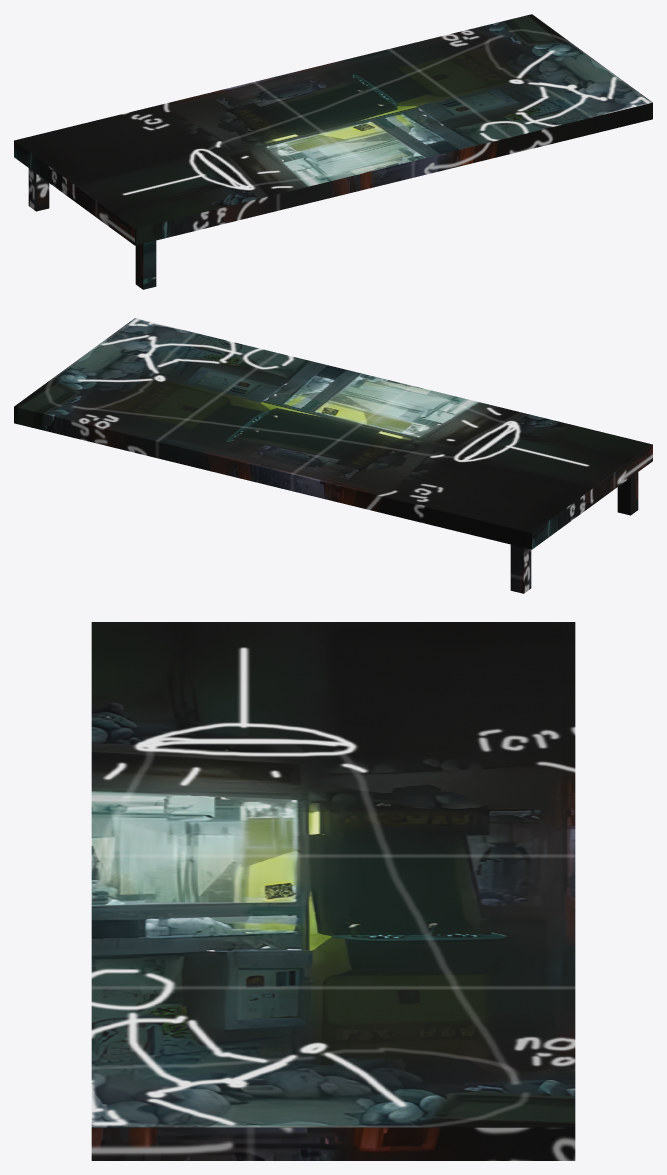
The model's file is Pier.fbx.
The picture shows the model from 3 angles, top to bottom: view 1: azimuth 30°, elevation 25°; view 2: azimuth 150°, elevation 25°; view 3: azimuth 270°, elevation 25°; orthographic projection. The views are drawn at different scales.
Parts seen in each view (by area): view 1: Pier; view 2: Pier; view 3: Pier.
Part boxes in pixels (box(x1,y1,x2,y2)): Pier: box(14, 14, 652, 289); Pier: box(14, 318, 652, 593); Pier: box(91, 622, 575, 1160).
Bounding box in the file's own units: 78.32 × 9.53 × 31.67.
